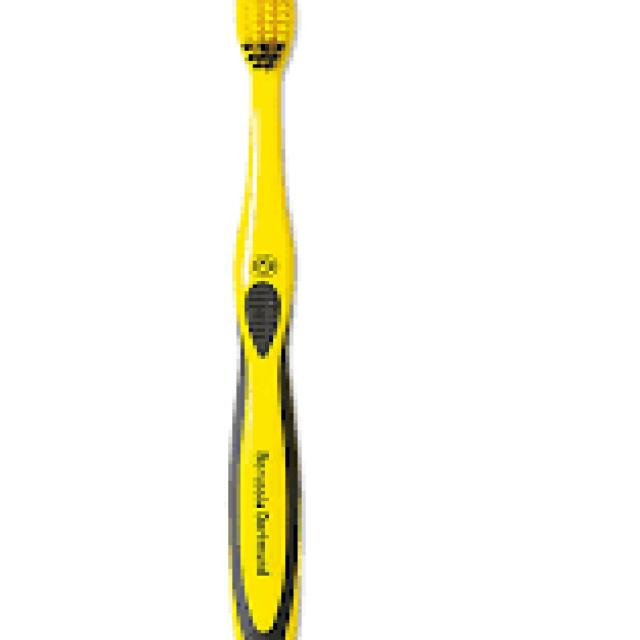organic: (165, 5, 366, 618)
